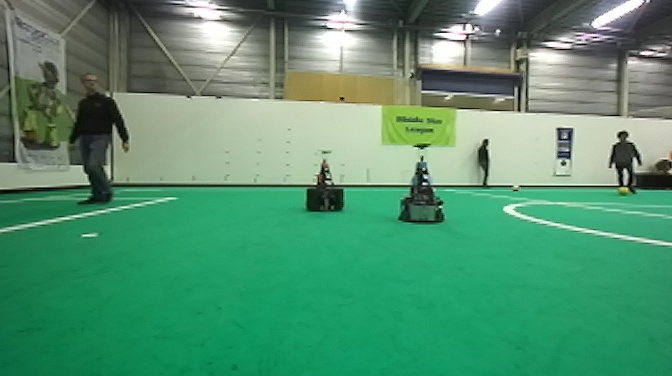ball: (509, 181, 523, 194), (617, 184, 629, 196)
human: (66, 74, 132, 206), (606, 130, 644, 195), (473, 133, 495, 189)
robot: (396, 141, 447, 225), (306, 148, 347, 212)
